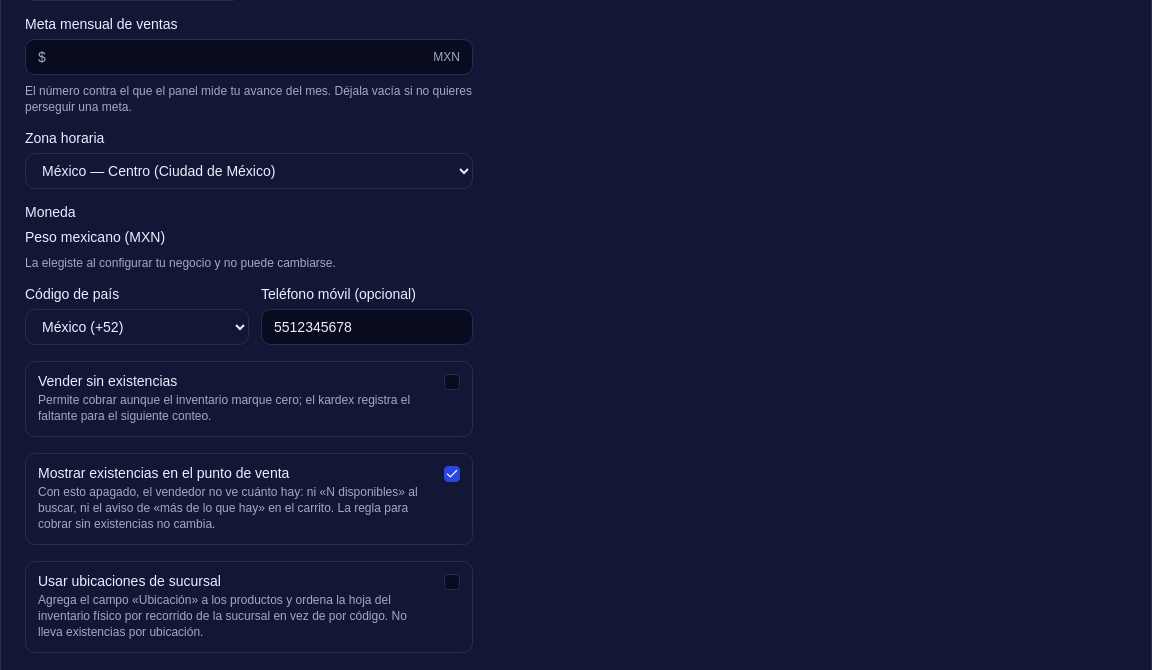
Test case: Datos del negocio en Mi perfil (2026-08-25) › el teléfono se compone de país + número › un número con letras NO se manda: error de validación
(page scrolled)
Replace the text in the field labelled "Teléfono móvil (opcional)" with "55ABC1234" at [367, 327], box [261,309,473,345]
(page scrolled)
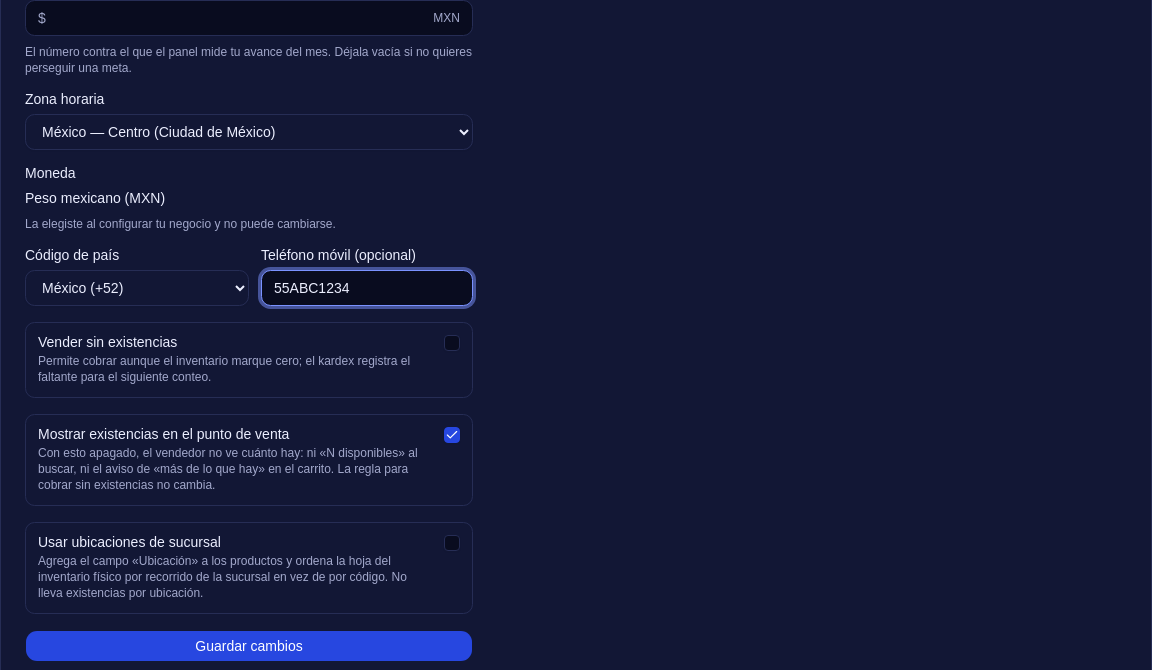
Click the button "Guardar cambios" at [249, 646], box [25,630,473,662]
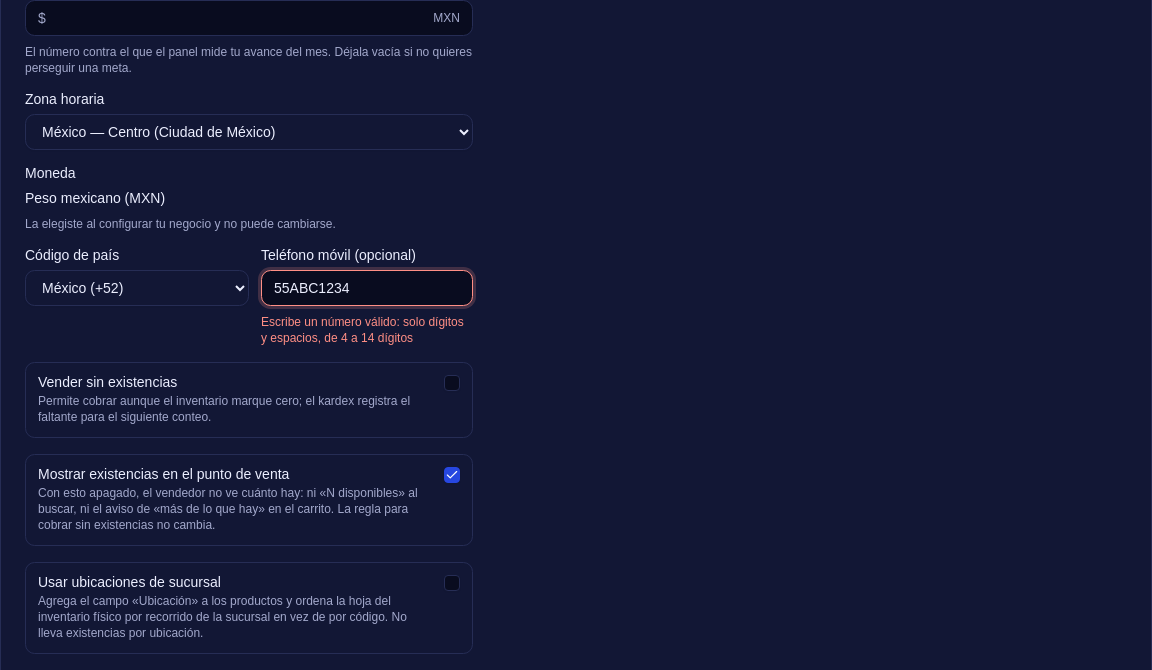
Expected: the text "Escribe un número válido: solo dígitos y espacios, de 4 a 14 dígitos" is shown, [261,314,473,346]
